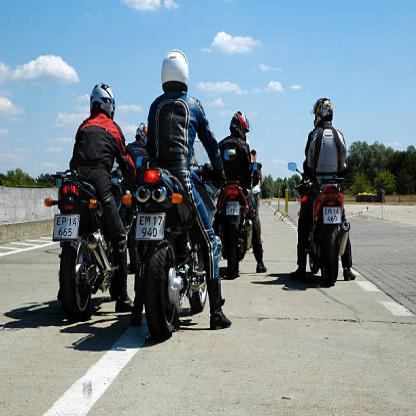Motorcycle: (130, 158, 203, 343), (43, 161, 111, 323), (299, 170, 352, 302)
